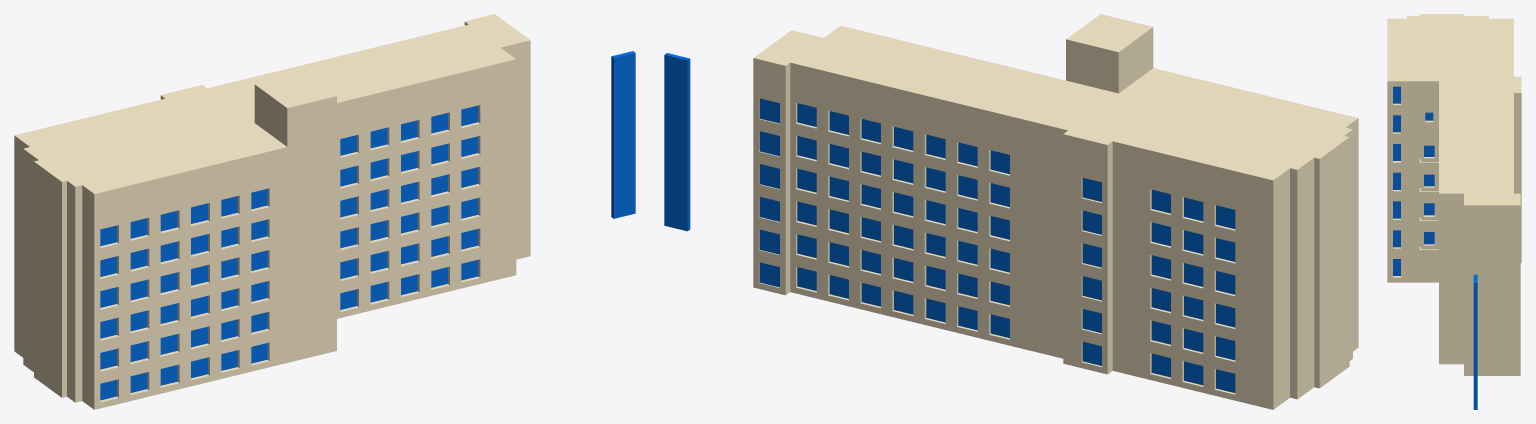
File: 제4공학관.fbx
3 views of the same model, side by side, from view 1: azimuth 30°, elevation 25°; view 2: azimuth 150°, elevation 25°; view 3: azimuth 270°, elevation 25° (orthographic). The views are drawn at different scales.
Visible parts, largest first — view 1: Cube, Cube_70, Cube_69, Cube_4; view 2: Cube, Cube_2, Cube_1, Cube_4, Cube_3, Cube_2_2; view 3: Cube, Cube_71, Cube_4.
Part boxes in pixels (x1,y1,x2,y2): Cube: (14, 14, 530, 409); Cube_70: (100, 188, 267, 400); Cube_69: (340, 105, 478, 309); Cube_4: (611, 51, 635, 218); Cube: (753, 14, 1358, 409); Cube_2: (797, 103, 1009, 338); Cube_1: (1151, 189, 1235, 392); Cube_4: (664, 53, 690, 231); Cube_3: (759, 98, 779, 287); Cube_2_2: (1082, 178, 1101, 365); Cube: (1387, 14, 1521, 375); Cube_71: (1393, 86, 1434, 275); Cube_4: (1473, 274, 1477, 409).
Bounding box in the file's own units: 1477 × 592 × 358.
